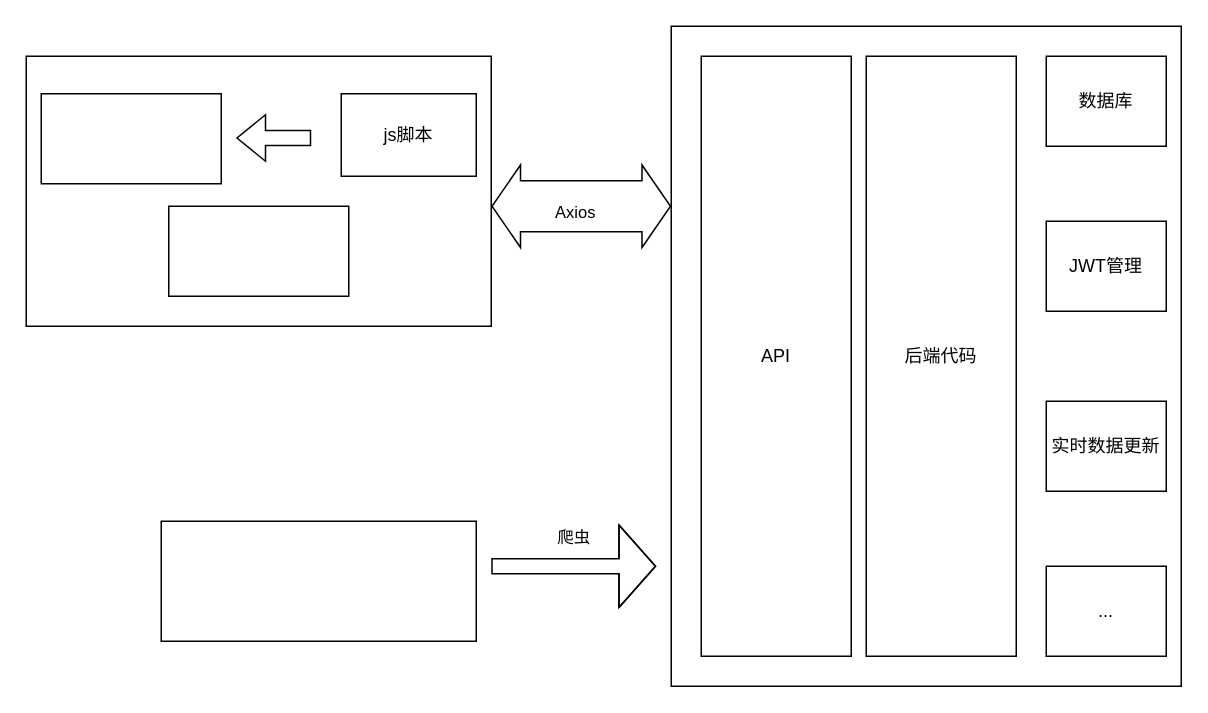
The diagram is 1208 pixels wide and 713 high, and some of its shapes have lost their labels. The shapes that lost their labels are listed below. From the top down, each one's box as (x1, y1, x2, y2) in pixels, then its label:
(40, 92, 221, 184): 可交互网页
(167, 205, 349, 296): React框架 React-dom路由分配
(160, 520, 476, 641): 京东、淘宝、拼多多等网站
